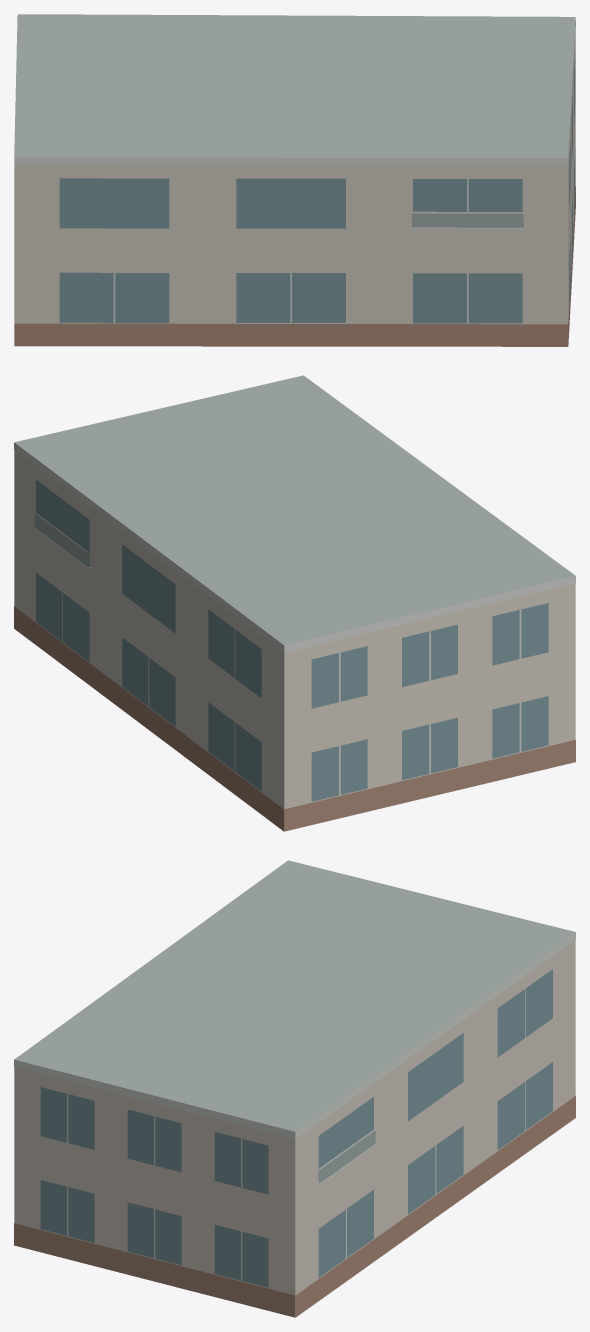
The model's file is survey-upis-32892786.glb.
3 views of the same model, one above another, from view 1: azimuth 30°, elevation 25°; view 2: azimuth 150°, elevation 25°; view 3: azimuth 270°, elevation 25° (orthographic).
Visible parts, largest first — view 1: survey-upis-32892786.tmp; view 2: survey-upis-32892786.tmp; view 3: survey-upis-32892786.tmp.
Part boxes in pixels (x1,y1,x2,y2): survey-upis-32892786.tmp: (14, 14, 575, 346); survey-upis-32892786.tmp: (14, 375, 575, 831); survey-upis-32892786.tmp: (14, 860, 575, 1317).
Size of the model in its own units: 19.14 by 6.1 by 16.72.
